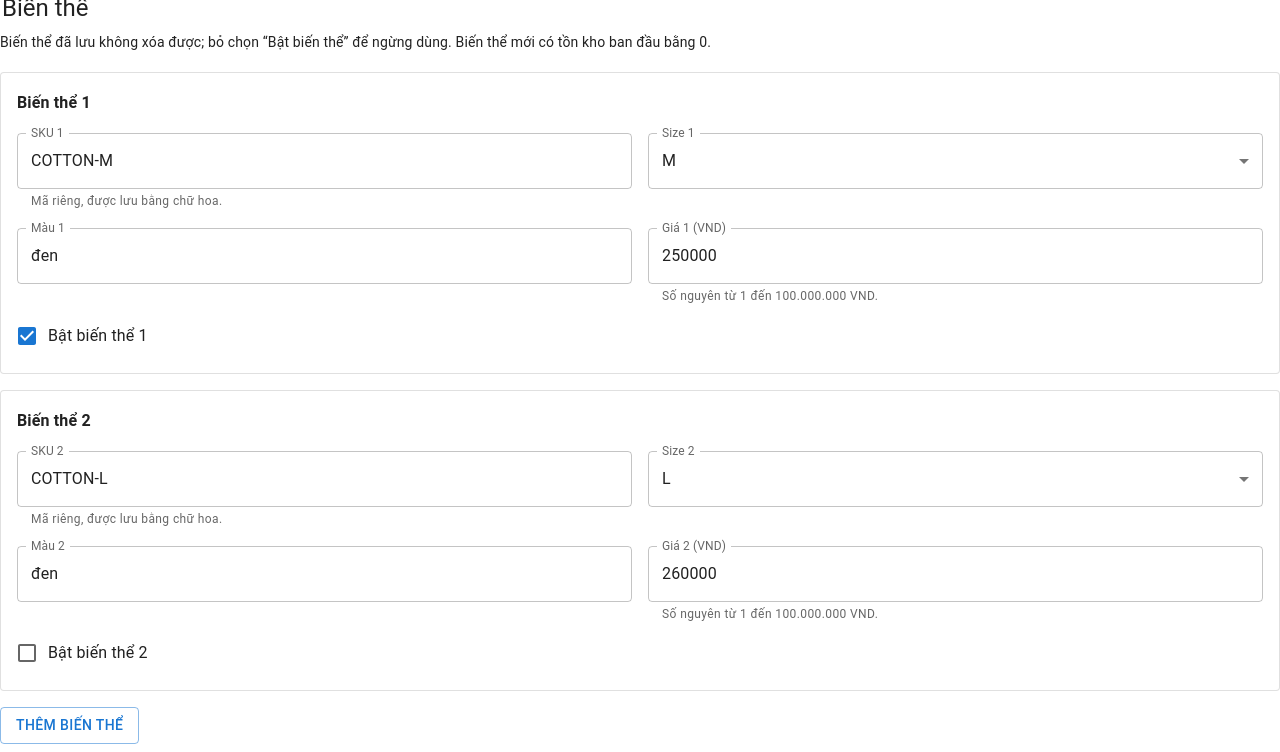
Test: edit variants of a draft product › marks the exact row for invalid price, duplicate SKU and duplicate size/color without sending
The width and height of the screenshot is (1280, 752).
(page scrolled)
Click the button "Thêm biến thể": (70, 726) [0, 708, 139, 744]
(page scrolled)
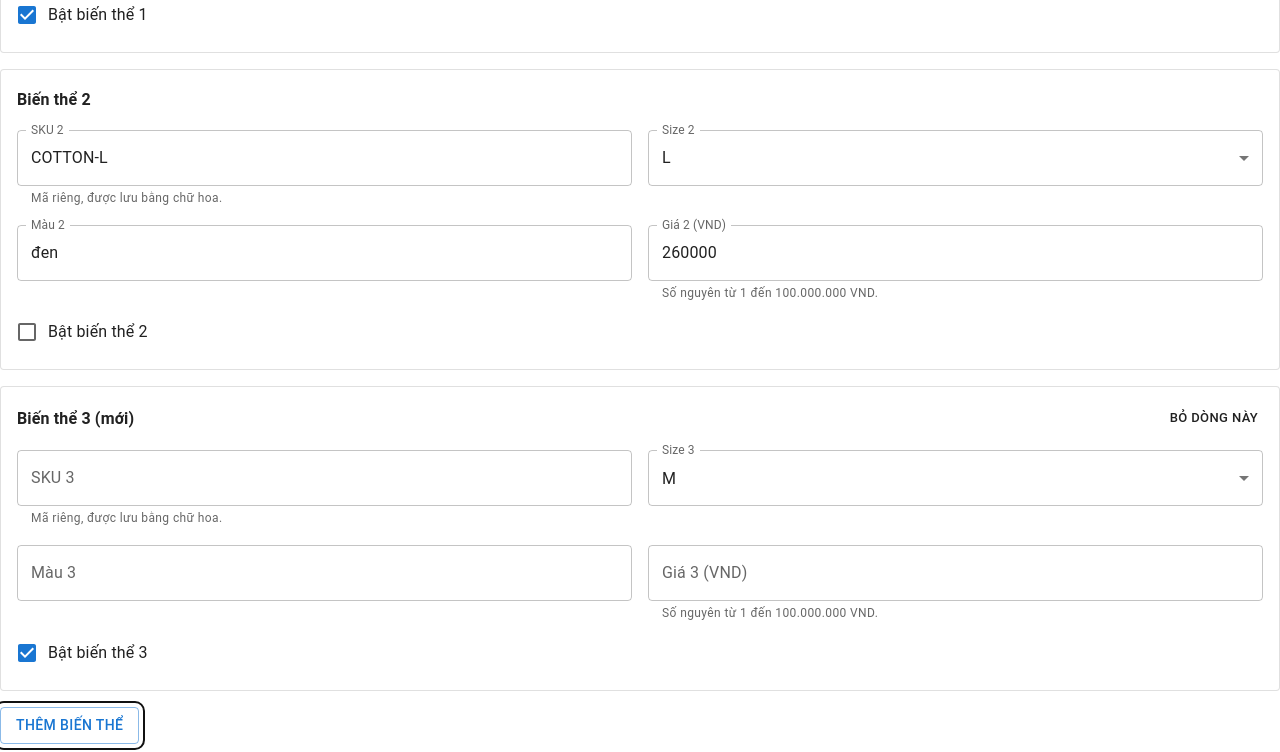
In the field labelled "SKU 3": (324, 478) [17, 450, 632, 506], type " cotton-m "
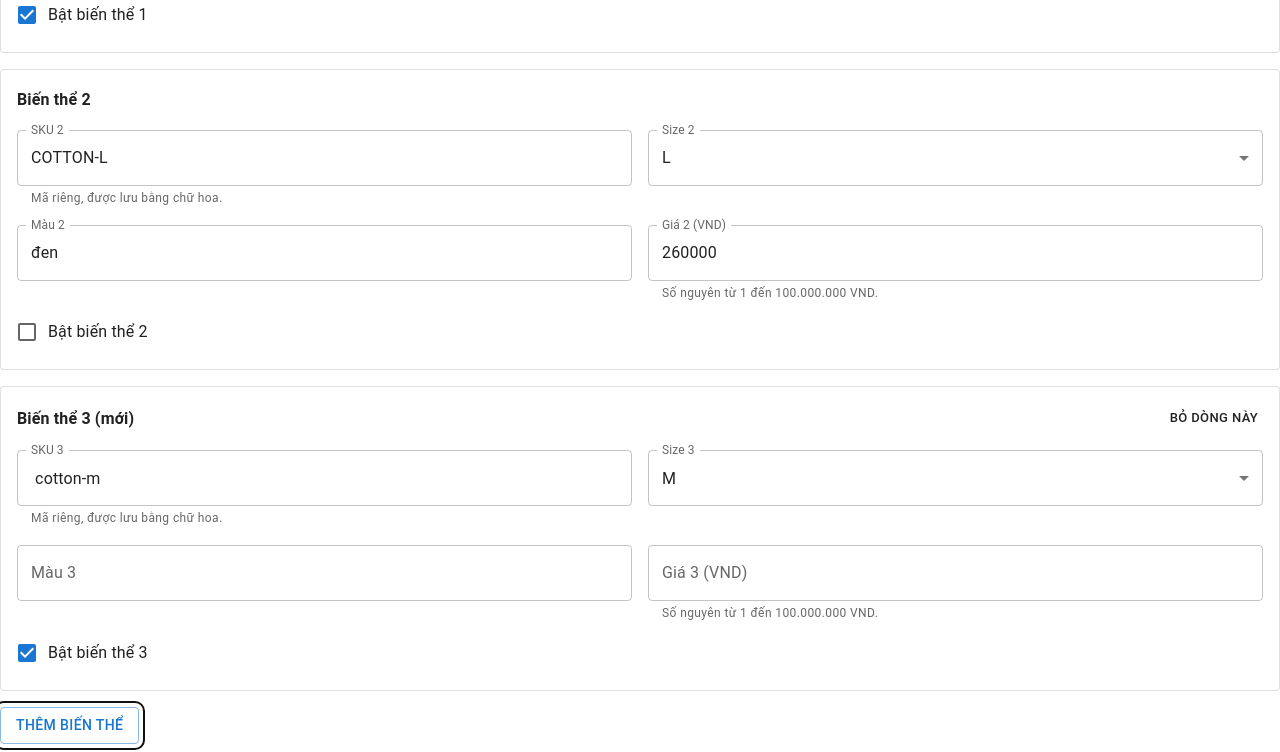
Select "M" in the dropdown labelled "Size 3": (956, 478) [648, 450, 1263, 506]
In the field labelled "Màu 3": (324, 573) [17, 545, 632, 601], type "Đen"
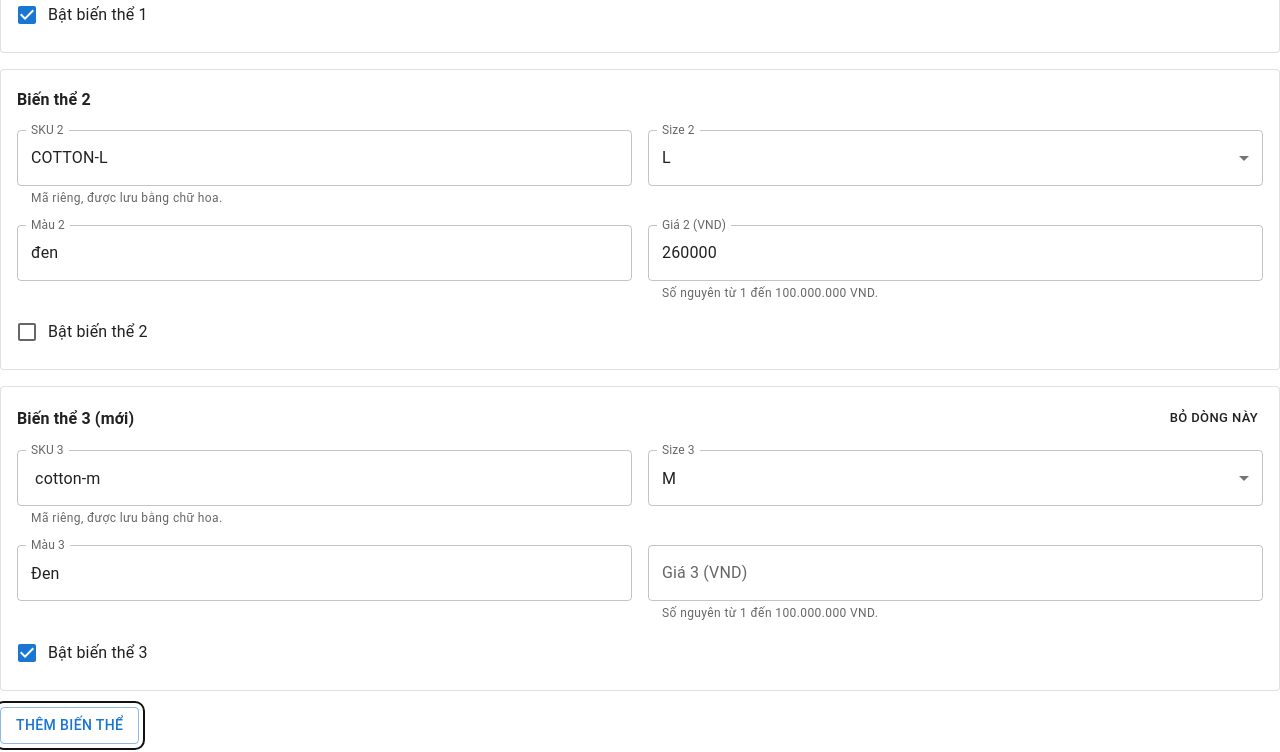
In the number field labelled "Giá 3 (VND)": (956, 573) [648, 545, 1263, 601], type "0"
(page scrolled)
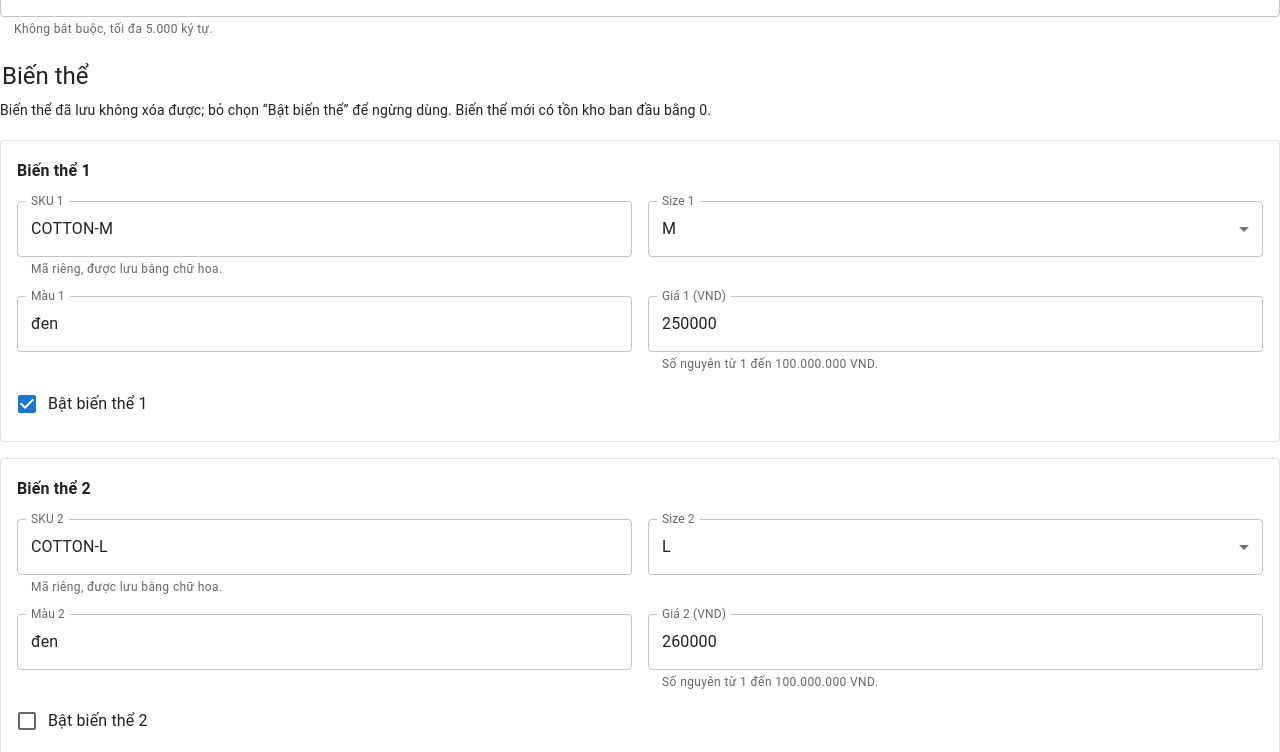
Submit the form named "Sửa sản phẩm nháp"
(page scrolled)
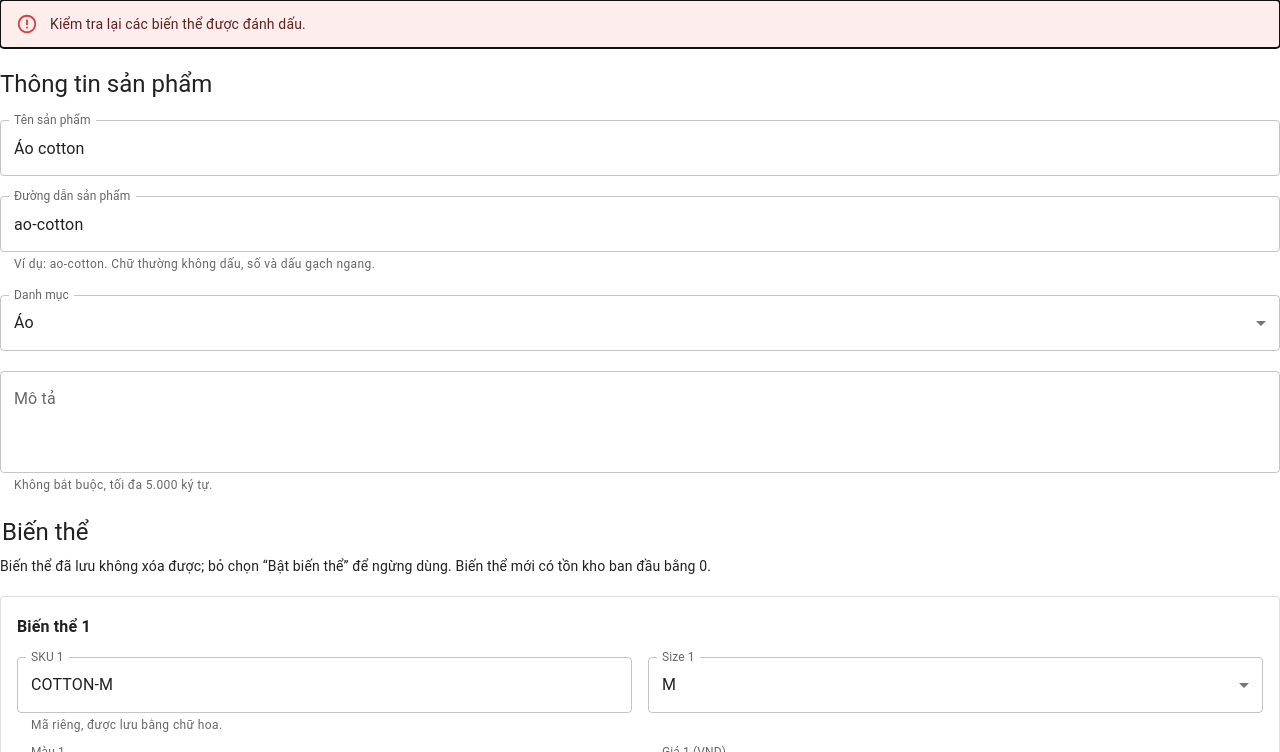
Expected: the message reads "Kiểm tra lại các biến thể được đánh dấu.", [50, 16, 306, 32]
